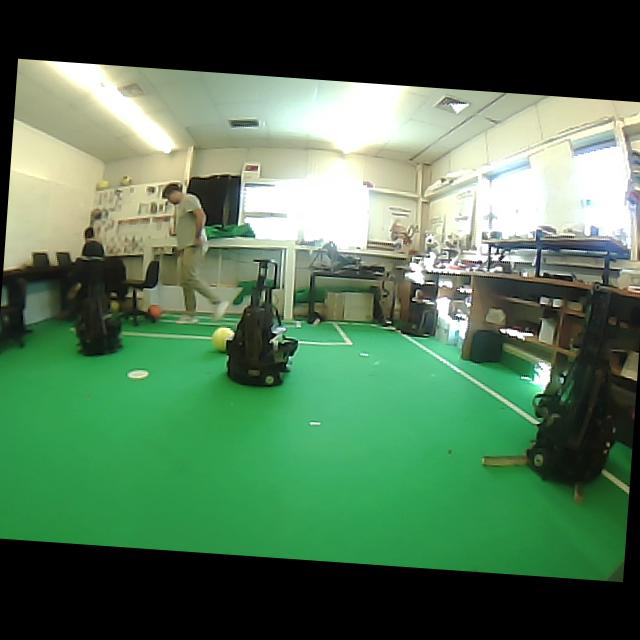ball: (211, 327, 233, 351), (146, 304, 163, 318), (95, 178, 109, 190), (119, 175, 132, 185)
goal: (283, 241, 296, 320)
robot: (528, 288, 614, 482), (226, 259, 296, 385), (75, 282, 121, 355)
